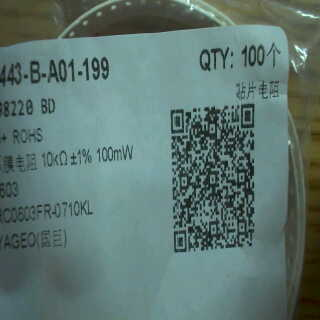10kR: (40, 145, 70, 174)
